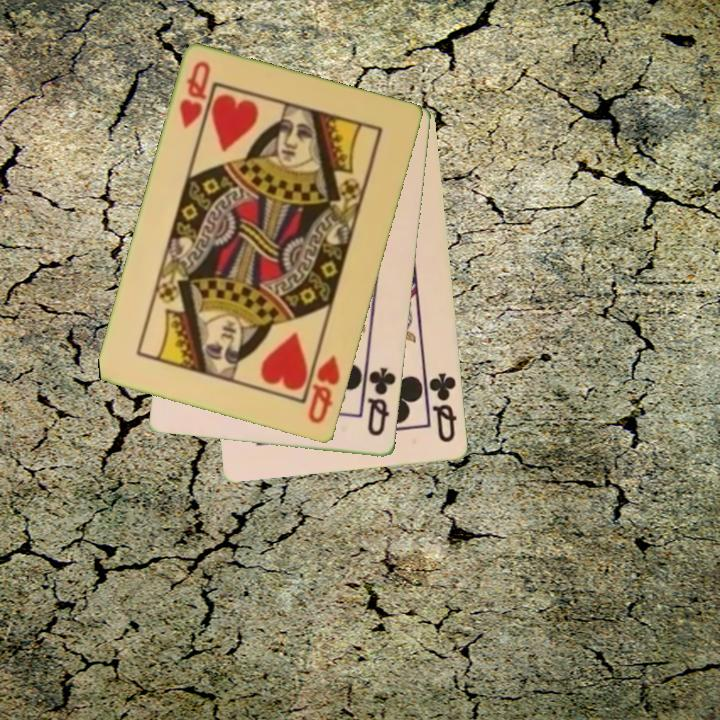Qc: (364, 364, 400, 440), (426, 369, 460, 446)
Qh: (305, 351, 344, 427), (176, 58, 214, 132)
